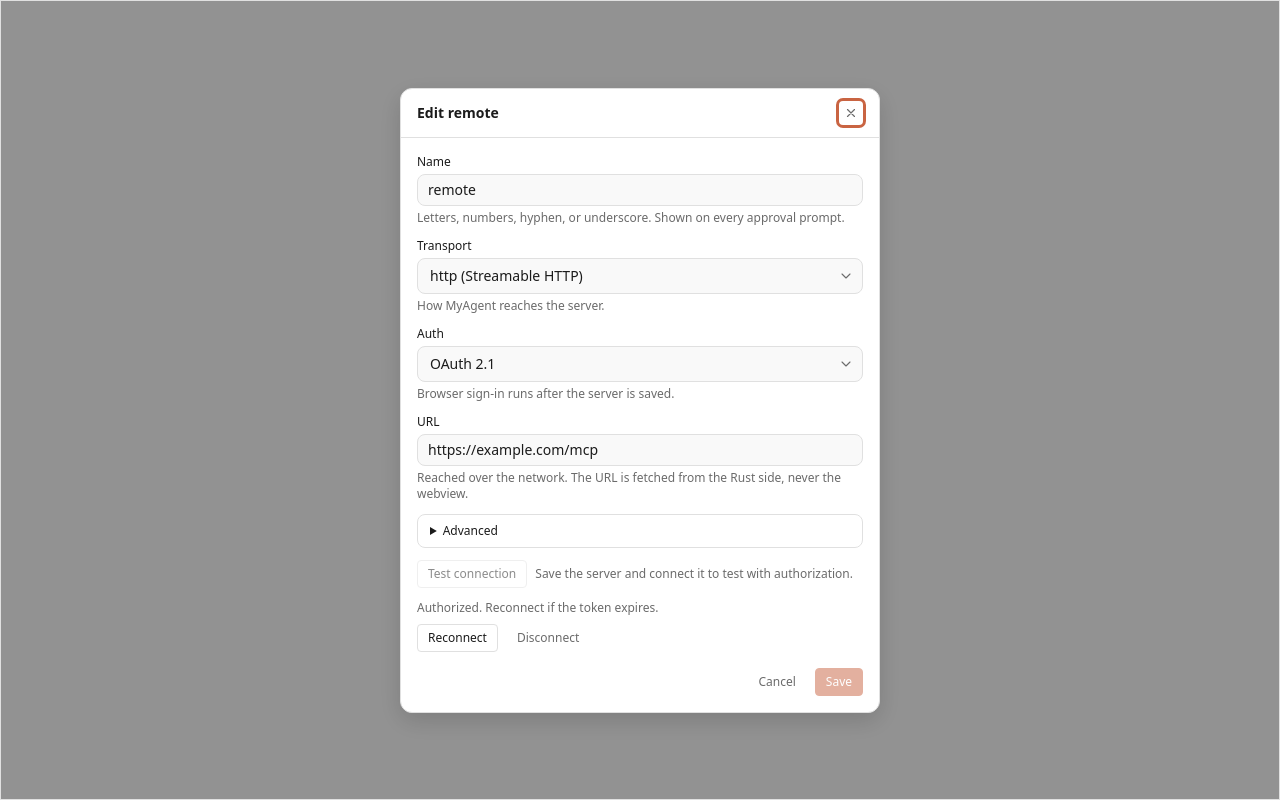
McpServerDialog oauth › clears stored oauth credentials on disconnect
This screenshot has width=1280, height=800.
Click the button "Disconnect".
click(548, 638)  # box [506,624,590,652]
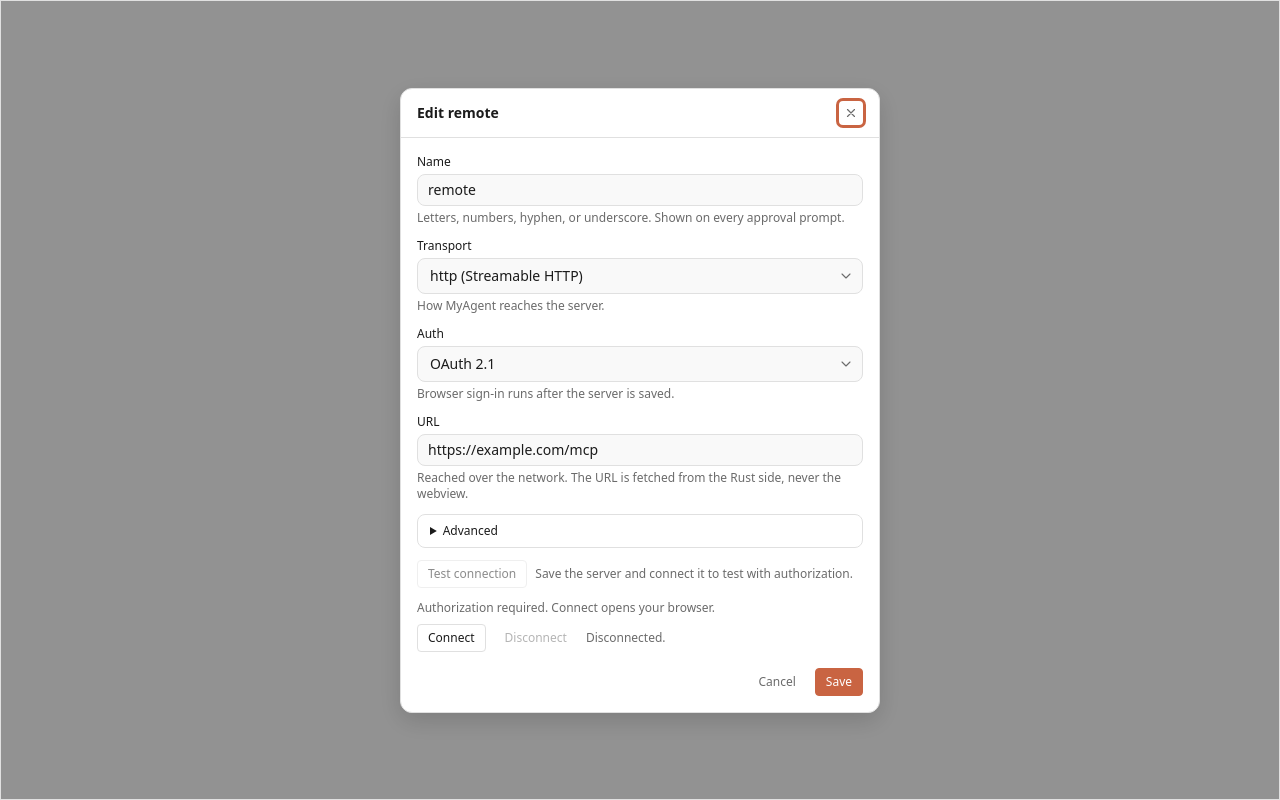
Expected: the text "Disconnected." is shown, [586,630,666,646]
